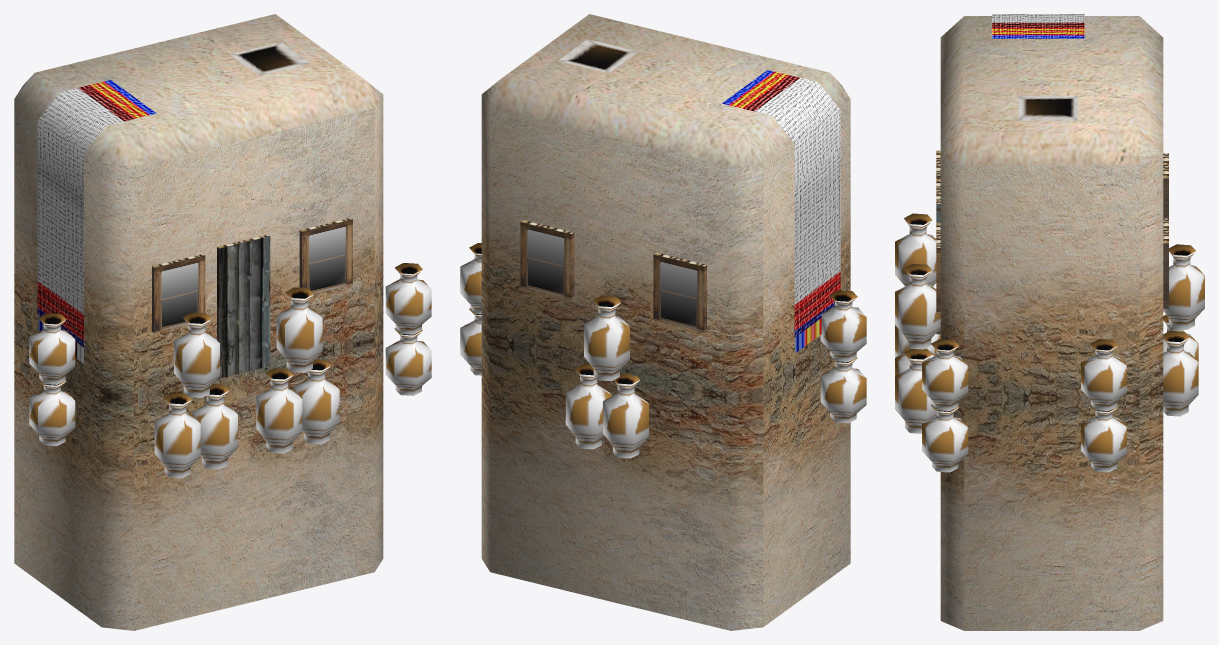
File: house_a_hopi.dae
The picture shows the model from 3 angles, left to right: view 1: azimuth 30°, elevation 25°; view 2: azimuth 150°, elevation 25°; view 3: azimuth 270°, elevation 25°; orthographic projection.
Parts seen in each view (by area): view 1: HouseA; view 2: HouseA; view 3: HouseA.
Boxes of the visible parts, x1,y1,x2,y2 form: HouseA: (14,14,431,630); HouseA: (460,14,866,630); HouseA: (895,14,1204,630).
Bounding box in the file's own units: 13.86 × 10.41 × 18.1.
